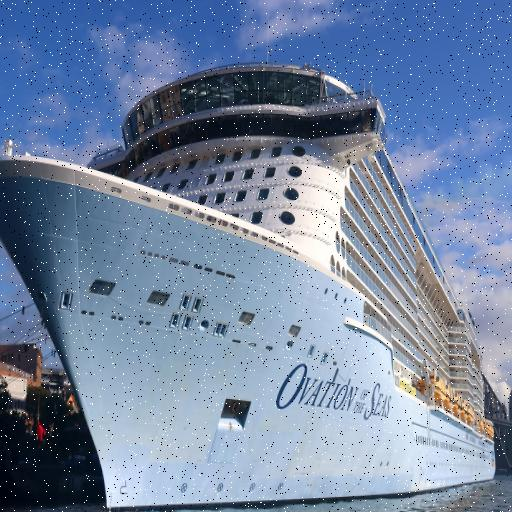cruises: (1, 34, 500, 512)
